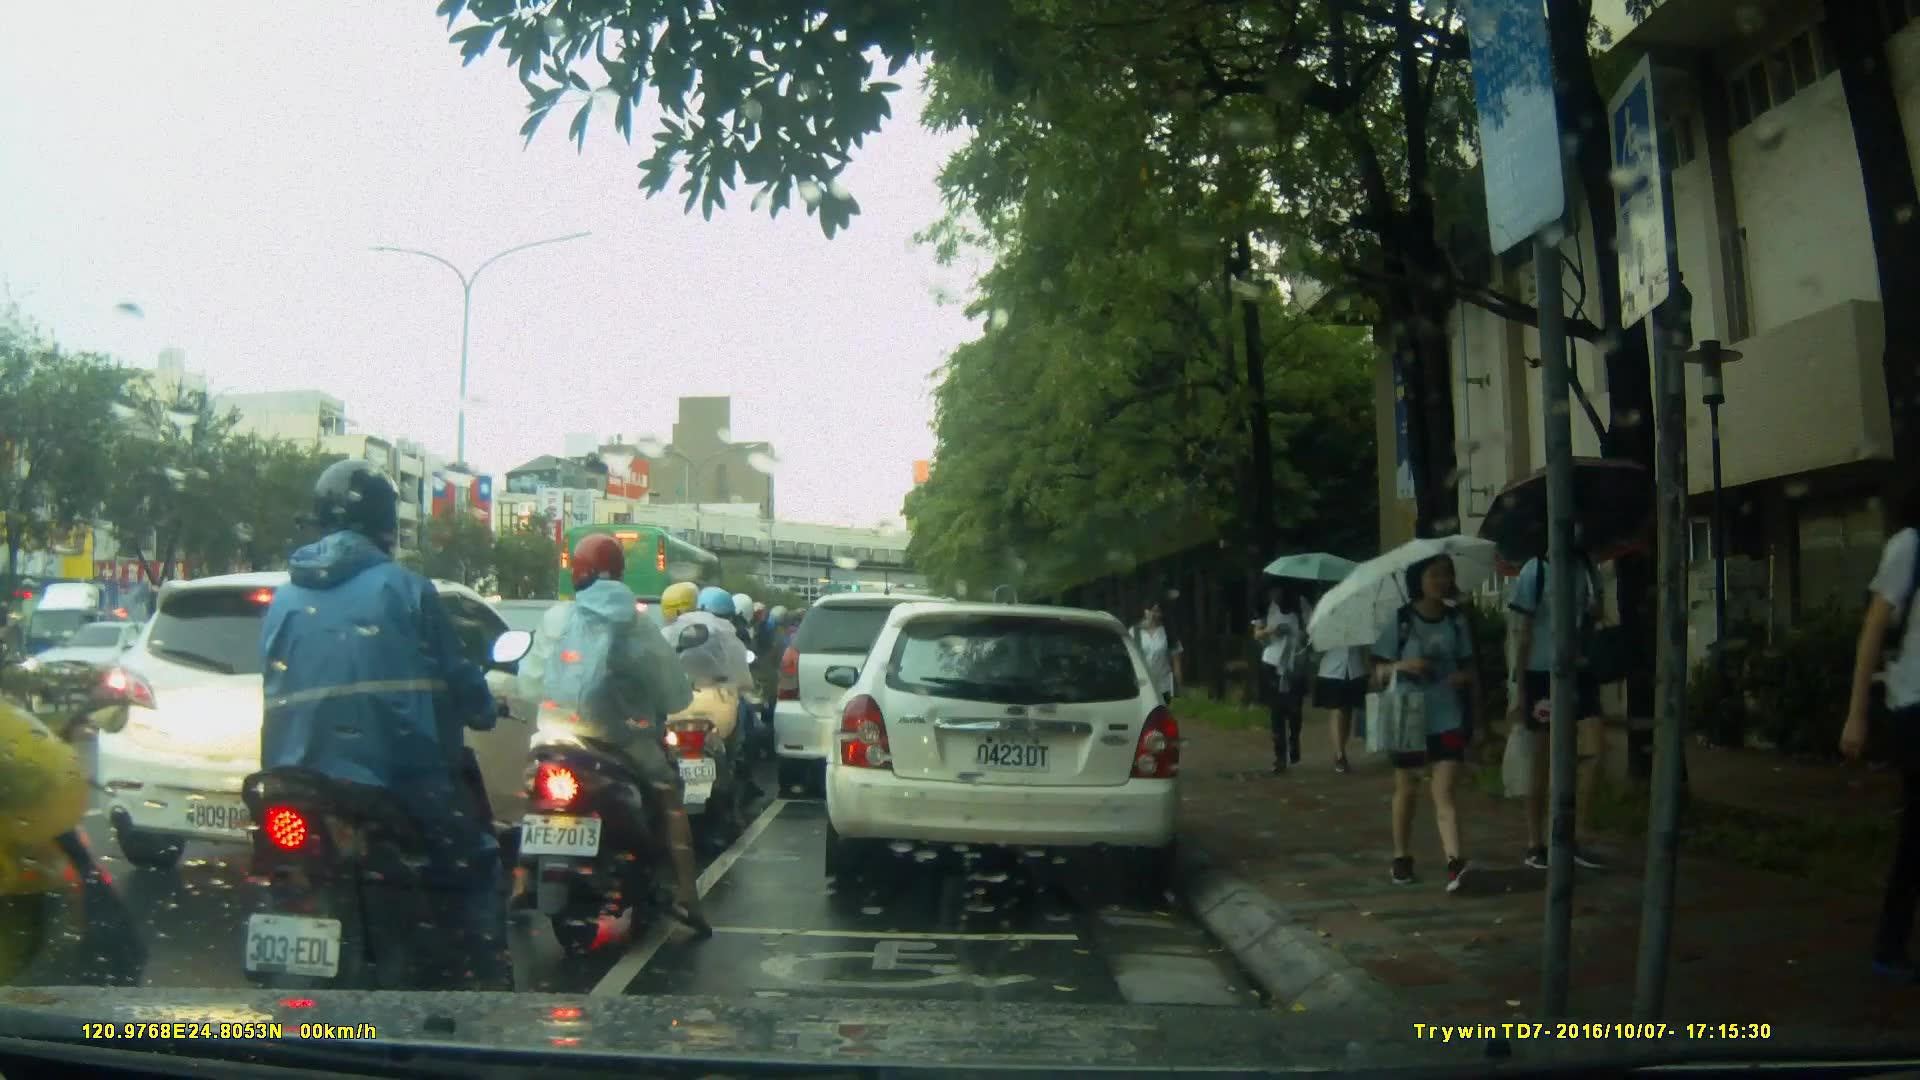pedestrian: (1504, 492, 1639, 879), (1351, 528, 1488, 909), (1830, 434, 1920, 982), (1307, 563, 1374, 778), (1254, 568, 1316, 775), (1125, 591, 1189, 770)
rider: (234, 463, 518, 1032), (514, 536, 737, 941), (631, 587, 770, 850), (673, 594, 764, 789)
vehicle: (93, 569, 617, 883), (822, 604, 1187, 883), (774, 595, 995, 802), (567, 524, 747, 660), (20, 576, 199, 697), (38, 618, 222, 710)
